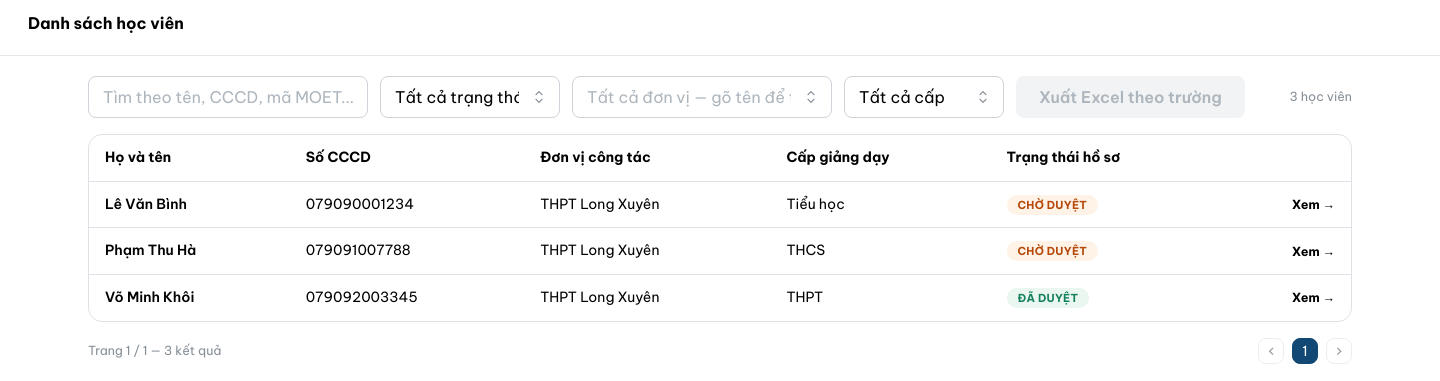
Scenario: Admin — Danh sách học viên › gõ ô tìm kiếm → lọc theo tên (query q gửi đúng lên API)
Check: the text "Lê Văn Bình" is shown, box x1=89 y1=181 x2=290 y2=228
In the field with placeholder "Tìm theo tên, CCCD, mã MOET...": (228, 97) x1=88 y1=76 x2=368 y2=118, type "Khôi"
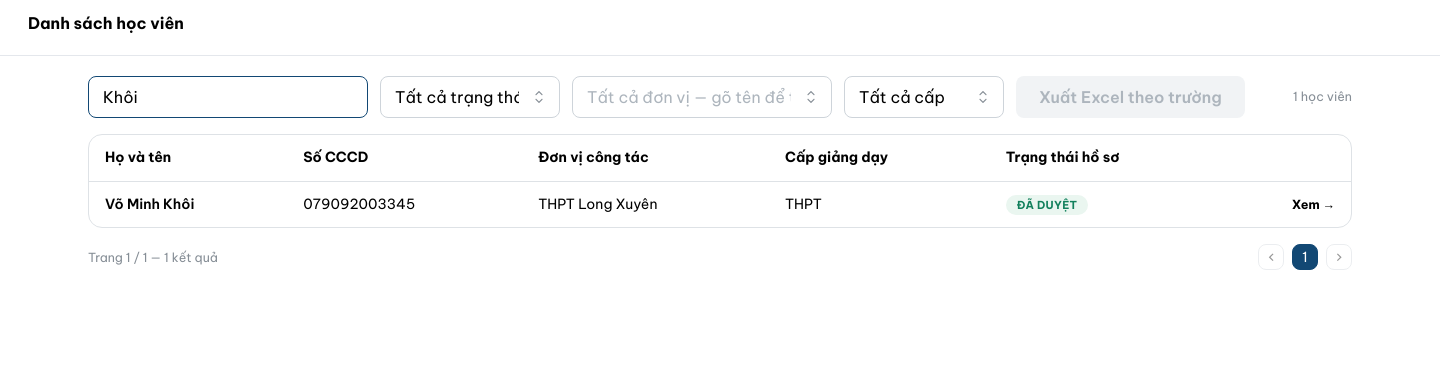
Check: the text "Võ Minh Khôi" is shown, box x1=89 y1=181 x2=287 y2=227
Check: the text "Lê Văn Bình" is gone
